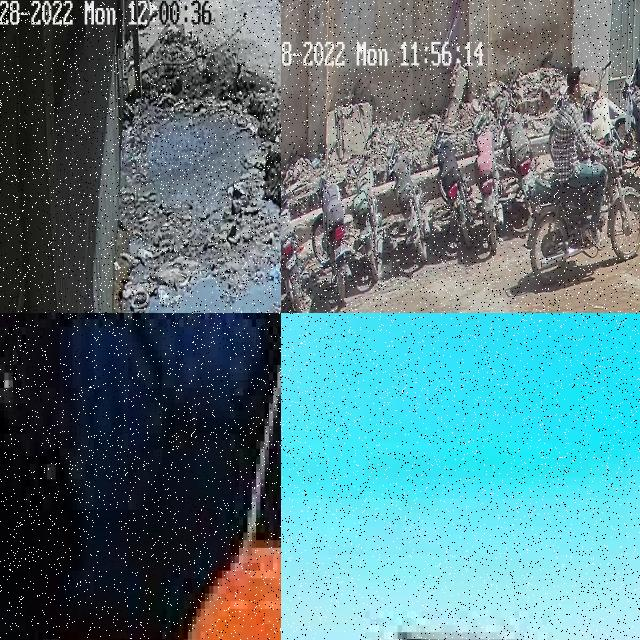bike: (281, 393, 640, 640), (523, 155, 640, 283), (385, 111, 430, 261), (311, 138, 351, 301), (432, 98, 474, 249), (344, 128, 383, 282), (497, 57, 536, 196), (471, 92, 505, 250), (281, 160, 309, 313), (613, 54, 640, 201), (582, 61, 613, 146)
car: (89, 313, 281, 640)
